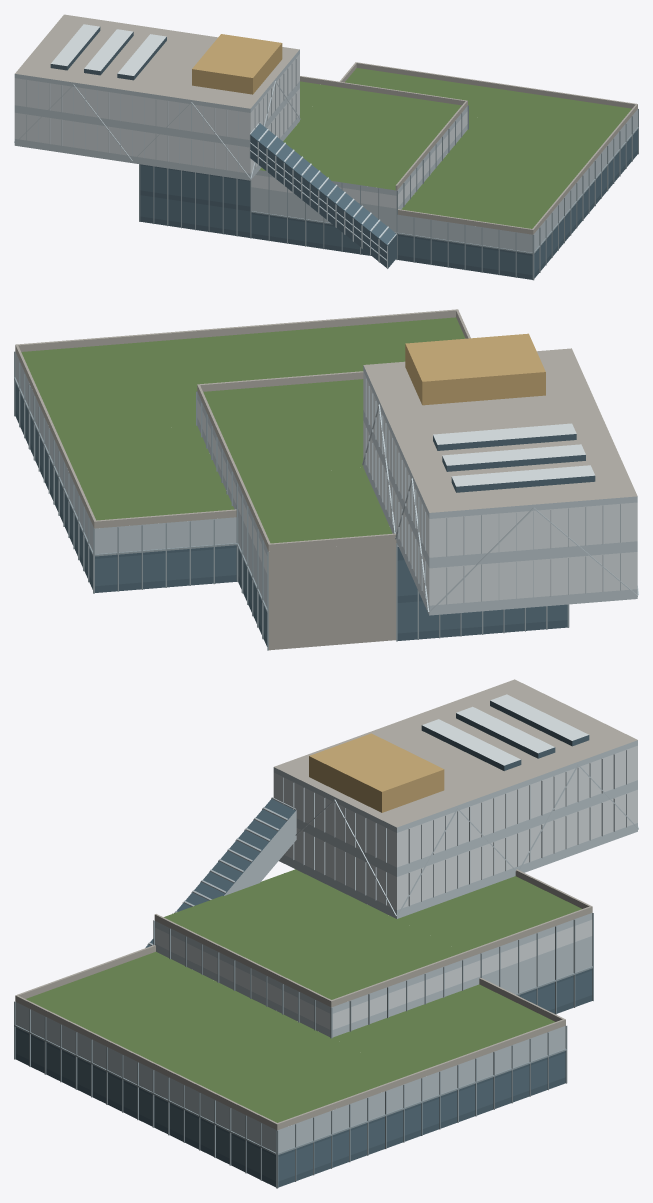
Rendered from mnbaq-pavillon-lassonde-near.glb.
3 views of the same model, one above another, from view 1: azimuth 30°, elevation 25°; view 2: azimuth 150°, elevation 25°; view 3: azimuth 270°, elevation 25° (orthographic). The views are drawn at different scales.
Parts seen in each view (by area): view 1: mnbaq-pavillon-lassonde-0-green, mnbaq-pavillon-lassonde-0-glow, mnbaq-pavillon-lassonde-0-frit, mnbaq-pavillon-lassonde-0-concrete, mnbaq-pavillon-lassonde-0-light, mnbaq-pavillon-lassonde-0-glass, mnbaq-pavillon-lassonde-0-steel, mnbaq-pavillon-lassonde-0-gold; view 2: mnbaq-pavillon-lassonde-0-green, mnbaq-pavillon-lassonde-0-concrete, mnbaq-pavillon-lassonde-0-glow, mnbaq-pavillon-lassonde-0-frit, mnbaq-pavillon-lassonde-0-light, mnbaq-pavillon-lassonde-0-gold, mnbaq-pavillon-lassonde-0-glass, mnbaq-pavillon-lassonde-0-steel; view 3: mnbaq-pavillon-lassonde-0-green, mnbaq-pavillon-lassonde-0-frit, mnbaq-pavillon-lassonde-0-glow, mnbaq-pavillon-lassonde-0-concrete, mnbaq-pavillon-lassonde-0-light, mnbaq-pavillon-lassonde-0-glass, mnbaq-pavillon-lassonde-0-steel, mnbaq-pavillon-lassonde-0-gold.
Part boxes in pixels (bbox=[...]): mnbaq-pavillon-lassonde-0-green: bbox=[259, 68, 631, 228]; mnbaq-pavillon-lassonde-0-glow: bbox=[14, 24, 467, 208]; mnbaq-pavillon-lassonde-0-frit: bbox=[14, 49, 637, 268]; mnbaq-pavillon-lassonde-0-concrete: bbox=[15, 14, 637, 234]; mnbaq-pavillon-lassonde-0-light: bbox=[140, 130, 637, 274]; mnbaq-pavillon-lassonde-0-glass: bbox=[50, 27, 637, 279]; mnbaq-pavillon-lassonde-0-steel: bbox=[139, 105, 638, 280]; mnbaq-pavillon-lassonde-0-gold: bbox=[192, 34, 282, 94]; mnbaq-pavillon-lassonde-0-green: bbox=[21, 317, 465, 543]; mnbaq-pavillon-lassonde-0-concrete: bbox=[15, 309, 637, 650]; mnbaq-pavillon-lassonde-0-glow: bbox=[197, 371, 637, 605]; mnbaq-pavillon-lassonde-0-frit: bbox=[15, 352, 638, 615]; mnbaq-pavillon-lassonde-0-light: bbox=[15, 382, 567, 639]; mnbaq-pavillon-lassonde-0-gold: bbox=[405, 333, 545, 405]; mnbaq-pavillon-lassonde-0-glass: bbox=[15, 409, 595, 646]; mnbaq-pavillon-lassonde-0-steel: bbox=[14, 351, 569, 650]; mnbaq-pavillon-lassonde-0-green: bbox=[26, 869, 581, 1122]; mnbaq-pavillon-lassonde-0-frit: bbox=[15, 740, 638, 1152]; mnbaq-pavillon-lassonde-0-glow: bbox=[155, 694, 637, 1029]; mnbaq-pavillon-lassonde-0-concrete: bbox=[15, 679, 637, 1130]; mnbaq-pavillon-lassonde-0-light: bbox=[15, 970, 592, 1181]; mnbaq-pavillon-lassonde-0-glass: bbox=[15, 700, 592, 1187]; mnbaq-pavillon-lassonde-0-steel: bbox=[14, 873, 593, 1188]; mnbaq-pavillon-lassonde-0-gold: bbox=[309, 733, 444, 812].
Bounding box in the file's own units: 104 × 29.6 × 83.54.
